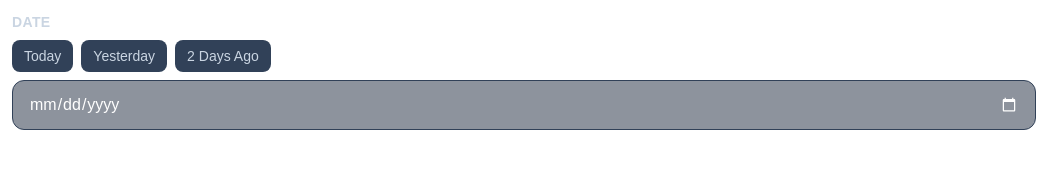
DateSelector › validation › shows error message in UI
This screenshot has width=1048, height=173.
Type "2026-12-01" into the date field named "Workout date (cannot be in the future or more than 365 days" at point(524, 105), box [12, 80, 1036, 130]
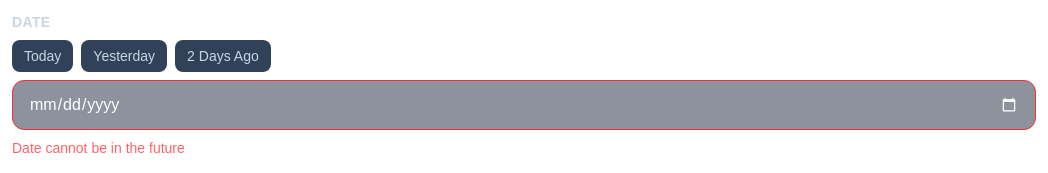
Now the message "Date cannot be in the future" is shown, box [12, 140, 185, 156]
